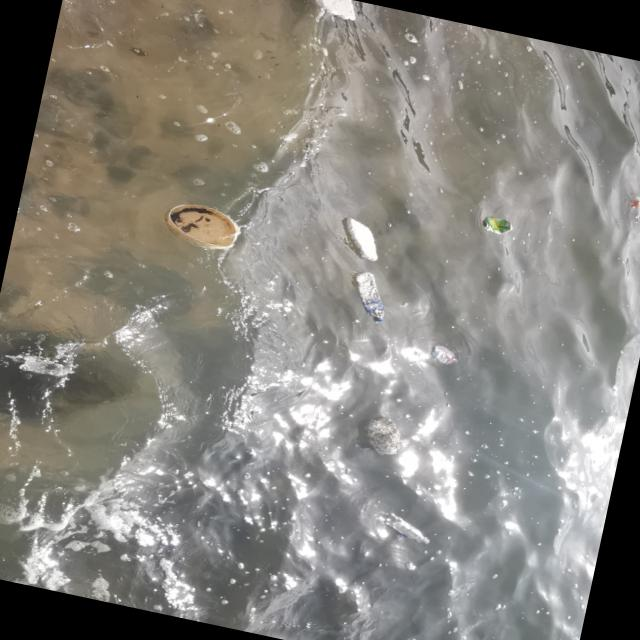can: (481, 216, 514, 238)
foam: (359, 413, 406, 458)
plastic bottle: (346, 271, 394, 324), (380, 513, 436, 547), (620, 192, 640, 226)
